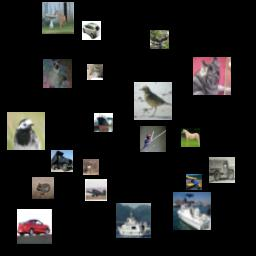airplane: (85, 179, 107, 201), (186, 174, 202, 190)
automobile: (17, 209, 52, 244), (82, 21, 101, 40)
bird: (134, 82, 172, 120), (7, 112, 45, 150), (140, 126, 166, 152)
cat: (43, 59, 72, 88), (87, 64, 103, 80)
deer: (42, 2, 74, 34), (150, 30, 169, 49), (83, 159, 99, 175)
dog: (193, 57, 231, 95)
frog: (32, 177, 54, 199)
ship: (173, 192, 211, 230), (116, 203, 151, 238), (94, 113, 113, 132)
truck: (209, 157, 235, 183), (51, 150, 73, 172)
